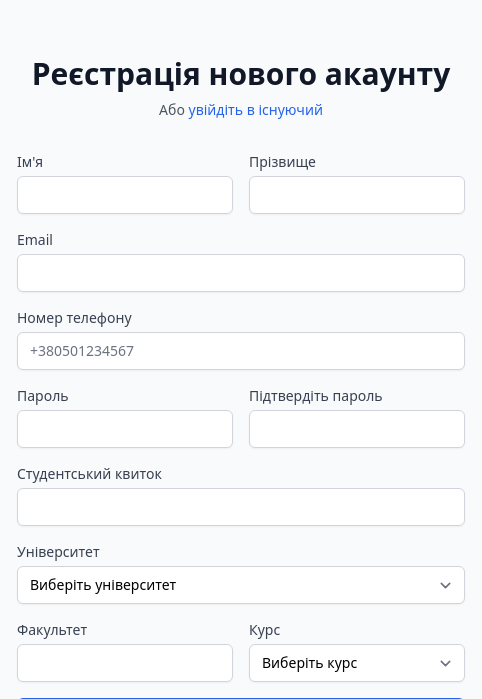
Test: RegisterPage Component › Form Validation › shows validation error when passwords do not match
Type "password123" into the password field labelled "Пароль" at [125, 429], box [17, 410, 233, 448]
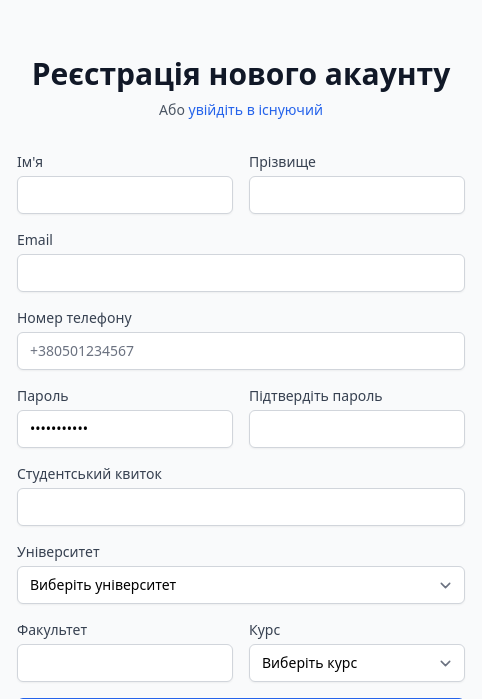
Type "password456" into the password field labelled "Підтвердіть пароль" at [357, 429], box [249, 410, 465, 448]
(page scrolled)
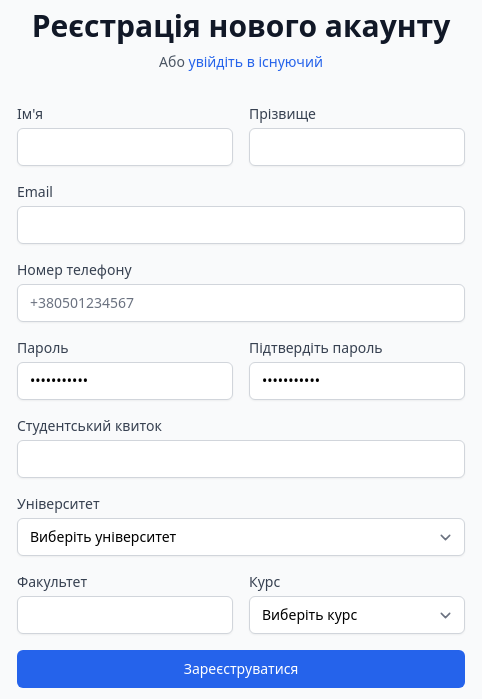
Click the button "Зареєструватися" at [241, 669], box [17, 650, 465, 688]
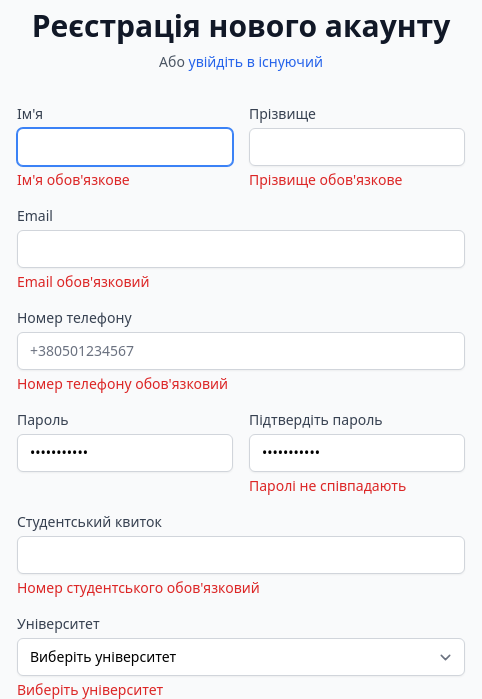
Check: the text "Паролі не співпадають" is shown, box [249, 476, 406, 495]
